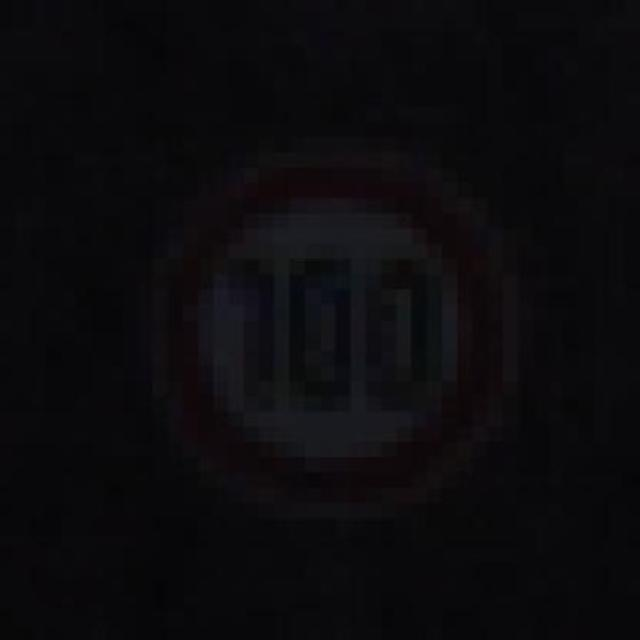forb_speed_over_100: (152, 154, 514, 515)
